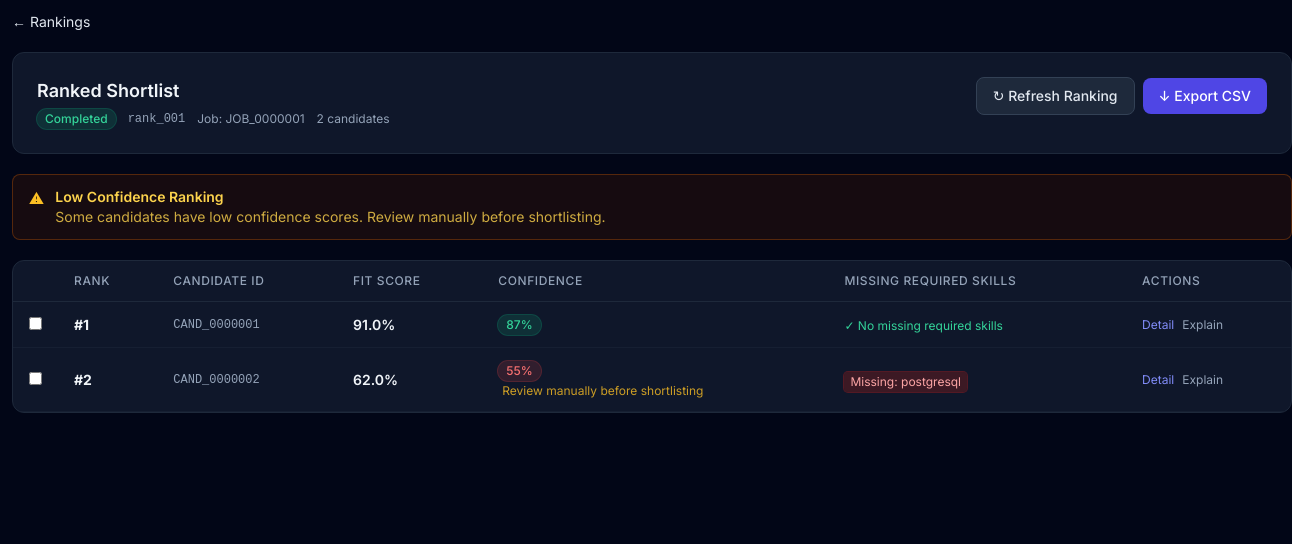
Test: RankedShortlistPage › shows error when export returns 409 RANKING_NOT_READY_FOR_EXPORT
Check: the text "91.0%" is shown, box top-left (353, 316), bottom-right (395, 332)
Click the button "↓ Export CSV".
click(1205, 96)  # box top-left (1142, 78), bottom-right (1267, 114)
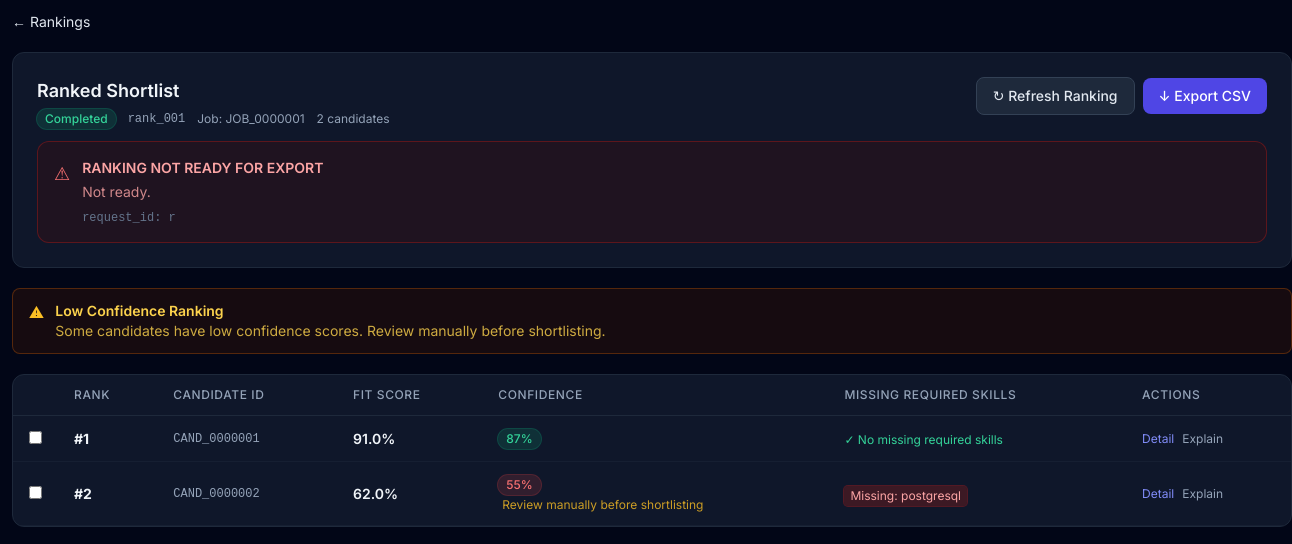
Check: the message "⚠ RANKING NOT READY FOR EXPORT Not ready. request_id: r" is shown, box top-left (37, 141), bottom-right (1267, 243)
